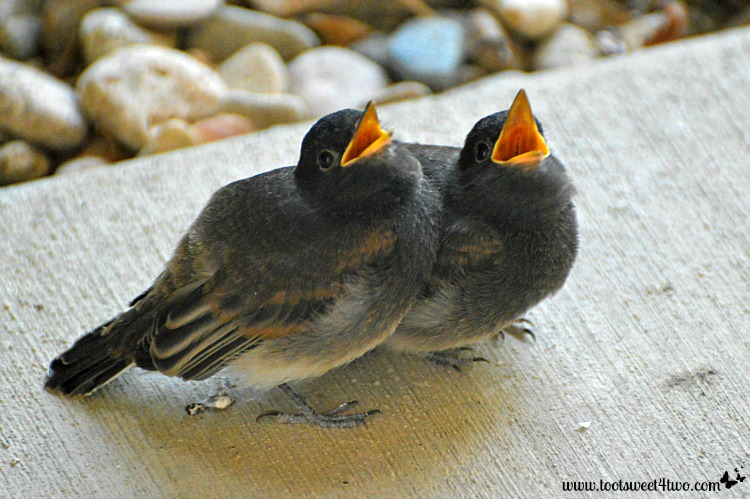bird: (23, 78, 443, 452), (337, 56, 587, 383)
